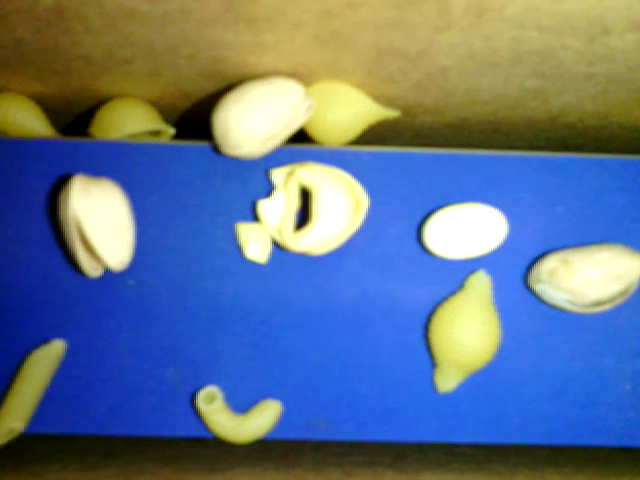elbow: (191, 381, 285, 440)
penne: (1, 335, 67, 443)
shell: (421, 266, 504, 395), (298, 78, 402, 146), (93, 94, 172, 141), (1, 89, 66, 137)
tortellini: (255, 161, 369, 256)
